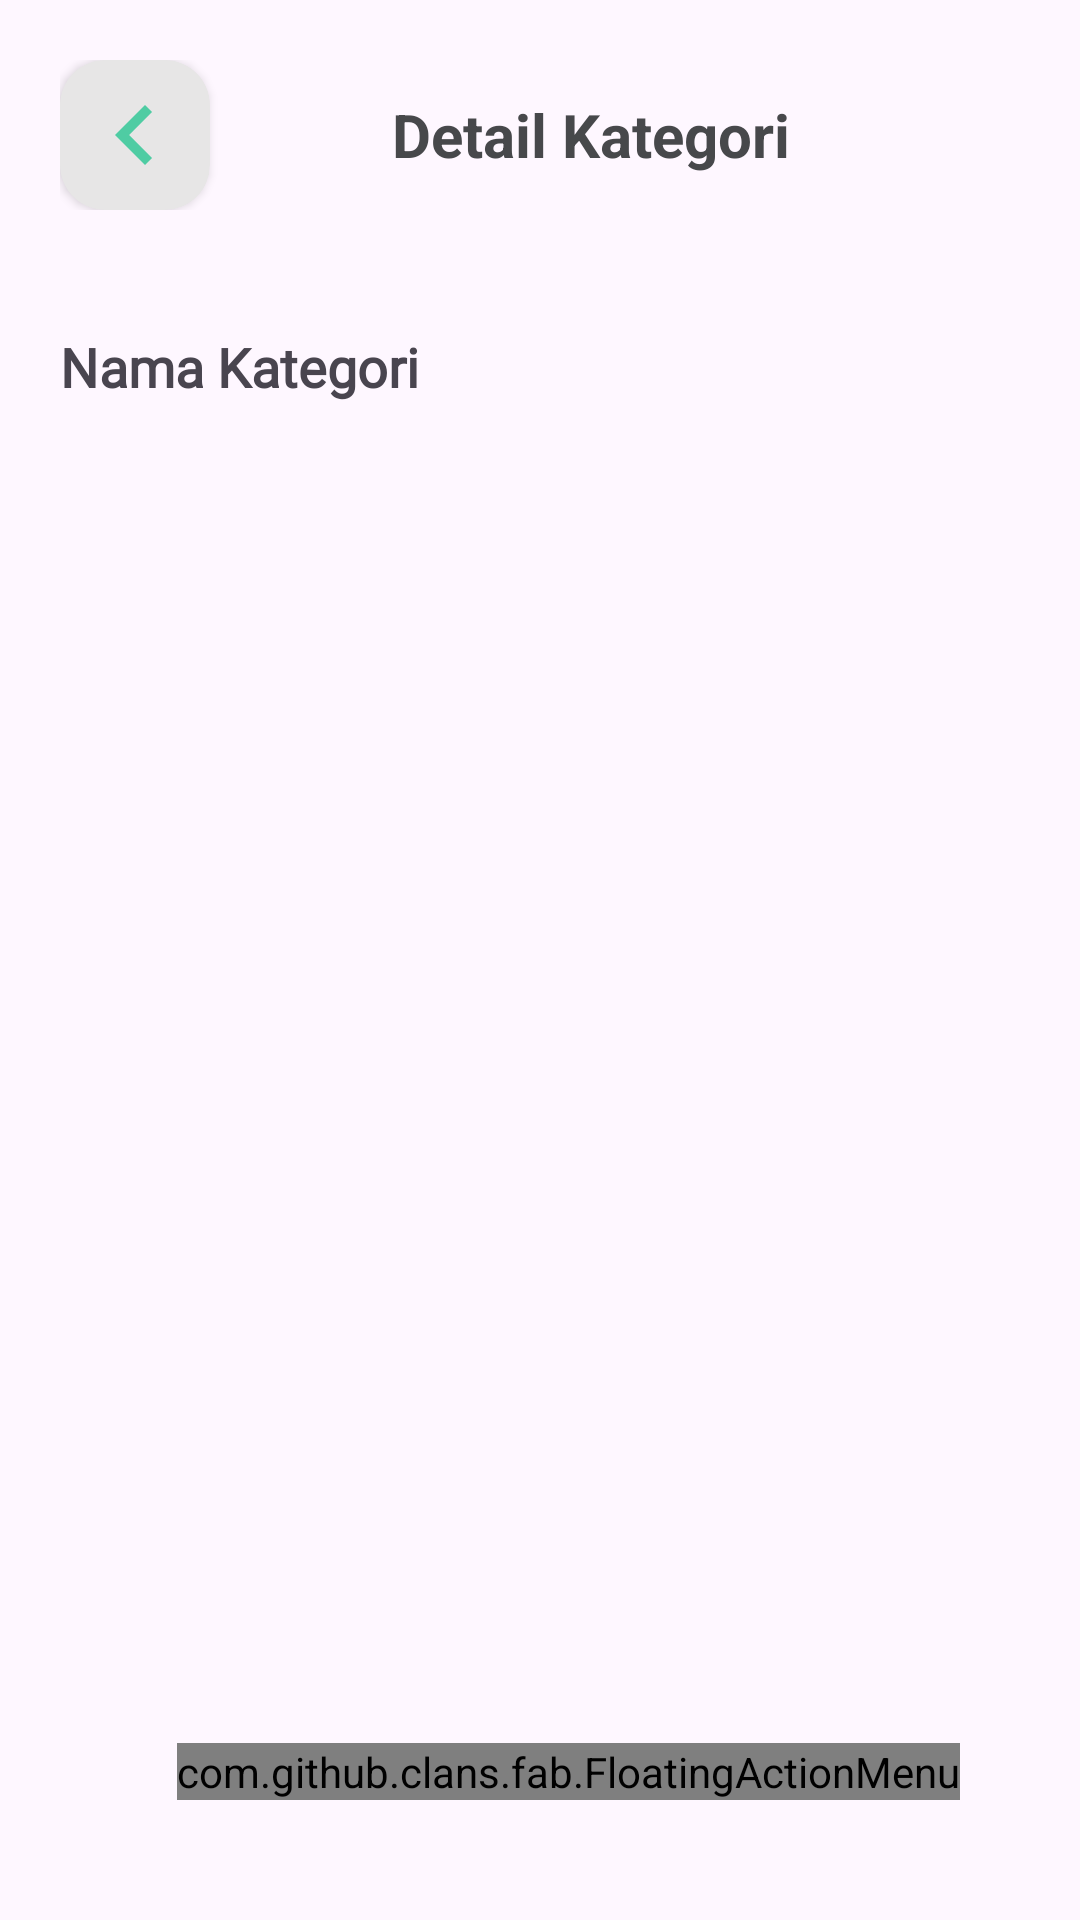

Named icons in this screenshot (1080×1920) and their centers, (x=x, y=y):
chevron left: (x=133, y=135)
